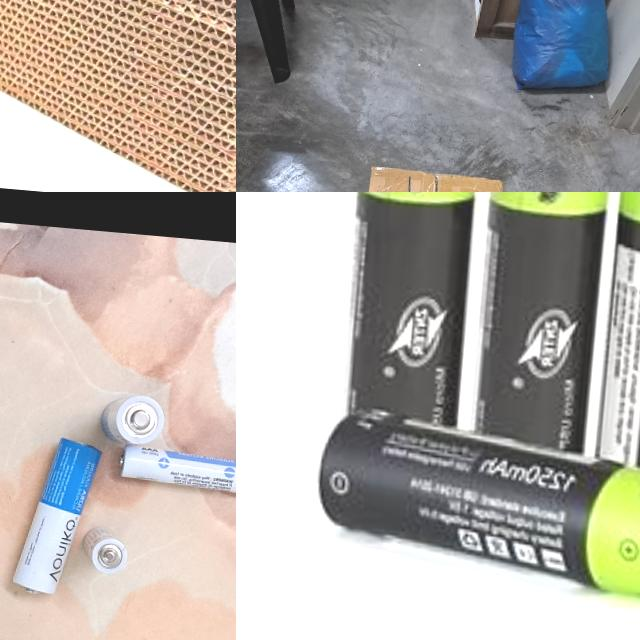bateria: (306, 412, 640, 606), (470, 192, 621, 468), (343, 192, 481, 433), (9, 434, 102, 598), (594, 192, 640, 464), (117, 445, 236, 495), (98, 392, 165, 448), (80, 525, 131, 574)
papelão: (0, 0, 236, 192)
sacola plástica: (507, 0, 619, 94)
